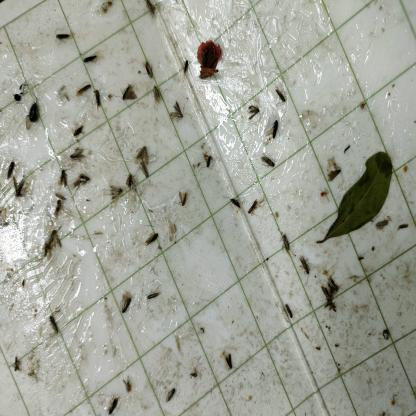prays_oleae: (135, 142, 156, 178), (49, 23, 73, 54), (279, 298, 302, 330), (116, 82, 142, 110), (43, 310, 63, 344), (199, 151, 217, 183), (323, 158, 343, 185), (259, 154, 280, 178), (143, 225, 160, 254), (318, 280, 336, 306), (169, 103, 191, 124), (8, 351, 24, 379), (12, 176, 29, 202), (176, 190, 196, 212), (122, 168, 138, 194), (104, 390, 122, 413), (248, 102, 264, 127), (374, 212, 391, 235), (142, 57, 157, 83), (144, 285, 162, 306), (70, 121, 86, 144), (50, 199, 67, 220), (222, 350, 238, 372), (45, 222, 59, 247), (244, 202, 263, 220), (328, 269, 342, 293), (276, 86, 286, 119), (226, 193, 241, 215), (121, 375, 136, 397), (298, 254, 311, 279), (109, 186, 126, 205), (80, 54, 100, 70), (73, 173, 91, 190), (165, 382, 180, 402), (121, 290, 135, 311), (68, 149, 89, 163), (56, 166, 69, 188), (188, 367, 204, 384), (279, 232, 291, 254), (180, 56, 190, 82), (2, 160, 19, 174), (39, 240, 49, 263), (76, 84, 92, 97), (94, 93, 104, 110), (152, 89, 162, 104)
